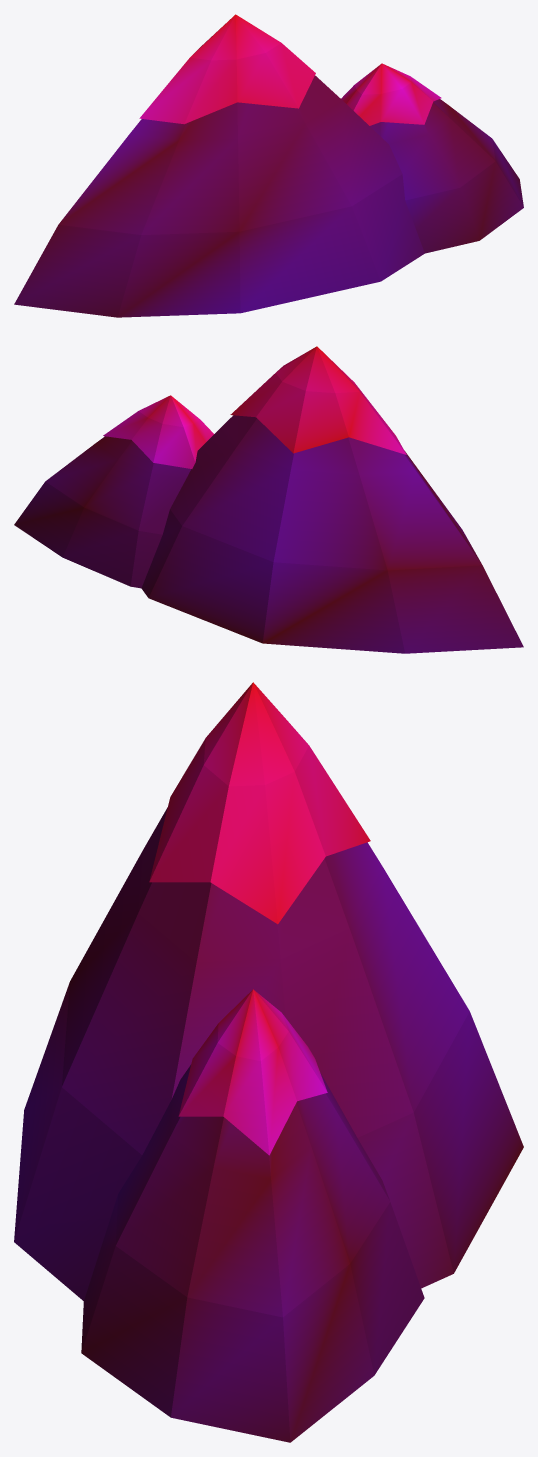
File: Mountain_Back_02.fbx
The picture shows the model from 3 angles, top to bottom: view 1: azimuth 30°, elevation 25°; view 2: azimuth 150°, elevation 25°; view 3: azimuth 270°, elevation 25°; orthographic projection. The views are drawn at different scales.
Visible parts, largest first — view 1: Mountain_Back_02; view 2: Mountain_Back_02; view 3: Mountain_Back_02.
Boxes of the visible parts, x1,y1,x2,y2 form: Mountain_Back_02: [14, 14, 523, 317]; Mountain_Back_02: [14, 346, 523, 653]; Mountain_Back_02: [14, 682, 523, 1442].
Size of the model in its own units: 79.15 by 36.25 by 34.99.
